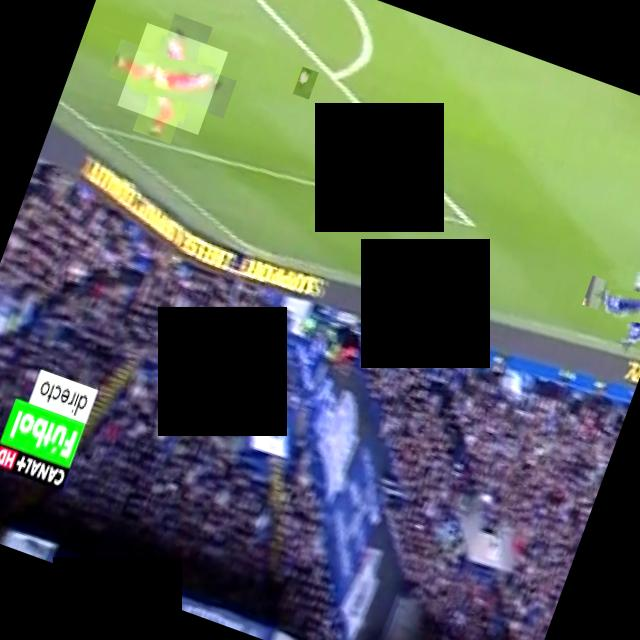ball: (292, 67, 318, 100)
goalkeeper: (117, 23, 228, 135)
soccer-player: (591, 261, 640, 353)
